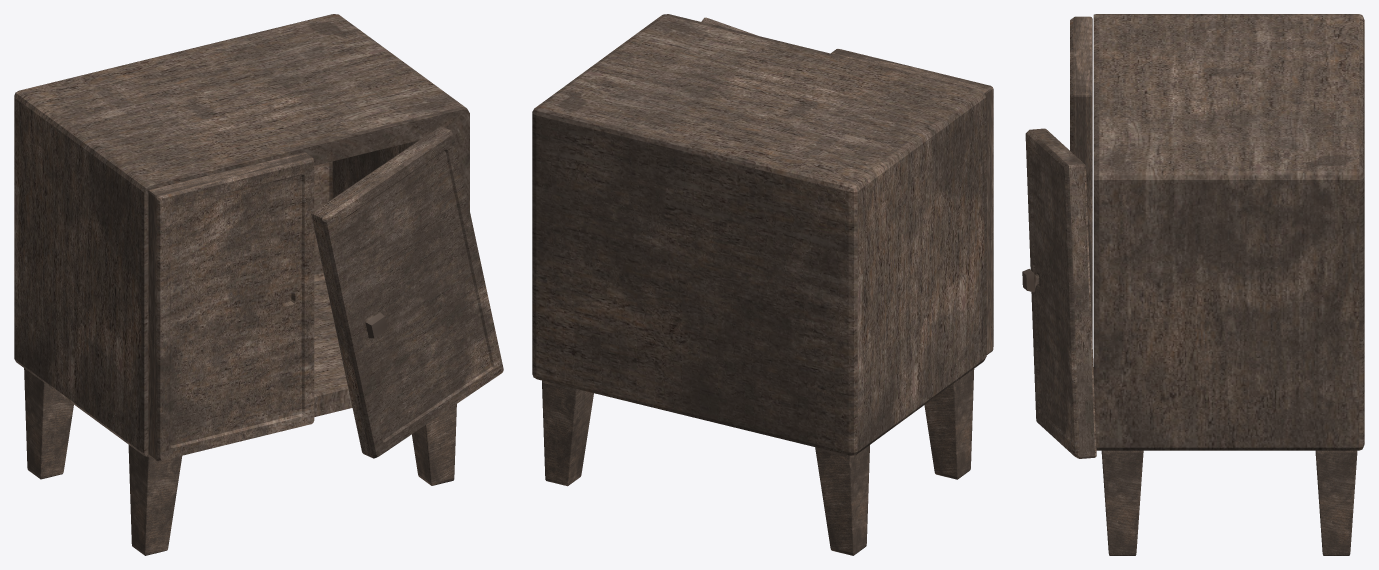
The model's file is Mueble.fbx.
The picture shows the model from 3 angles, left to right: view 1: azimuth 30°, elevation 25°; view 2: azimuth 150°, elevation 25°; view 3: azimuth 270°, elevation 25°; orthographic projection. The views are drawn at different scales.
Parts seen in each view (by area): view 1: Base, Puerta_L, Puerta_R, Pata 1, Pata 2, Pata 4; view 2: Base, Pata 2, Pata 3, Pata 1, Puerta_L; view 3: Base, Puerta_R, Puerta_L, Pata 4, Pata 3.
Part boxes in pixels (x1,y1,x2,y2): Base: (14, 14, 469, 456); Puerta_L: (148, 152, 314, 461); Puerta_R: (311, 126, 503, 458); Pata 1: (128, 445, 182, 555); Pata 2: (24, 368, 73, 479); Pata 4: (412, 404, 456, 485); Base: (532, 14, 986, 455); Pata 2: (815, 445, 869, 555); Pata 3: (542, 380, 593, 486); Pata 1: (924, 369, 974, 479); Puerta_L: (831, 49, 993, 354); Base: (1093, 14, 1364, 450); Puerta_R: (1022, 128, 1096, 458); Puerta_L: (1070, 16, 1092, 339); Pata 4: (1101, 450, 1143, 555); Pata 3: (1315, 450, 1357, 555).
Bounding box in the file's own units: 87.14 × 89.07 × 71.58.
1 material, 1 textured.
